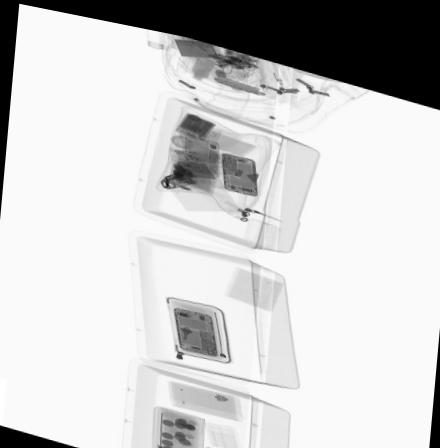Lighter: (237, 47, 260, 53)
